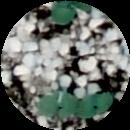Basil: (81, 91, 112, 117), (52, 1, 78, 26), (43, 94, 73, 115)
